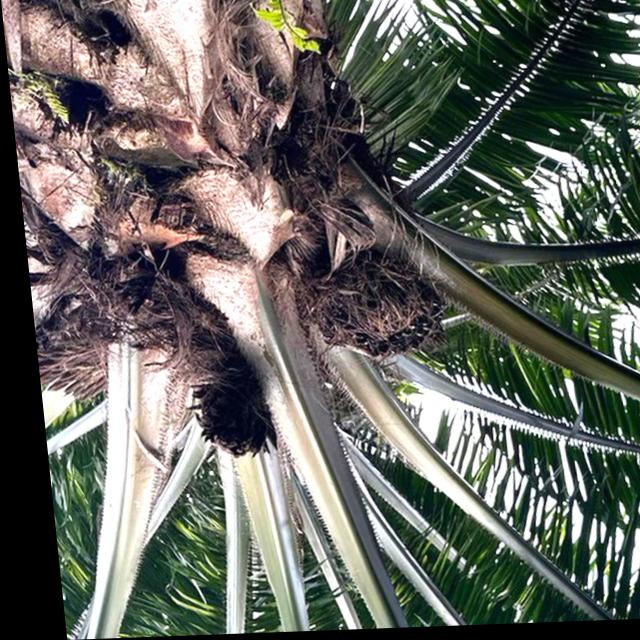almost: (299, 240, 442, 372)
